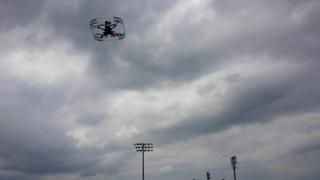UAV: (90, 17, 126, 42)
